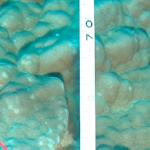alive: (2, 6, 147, 146)
